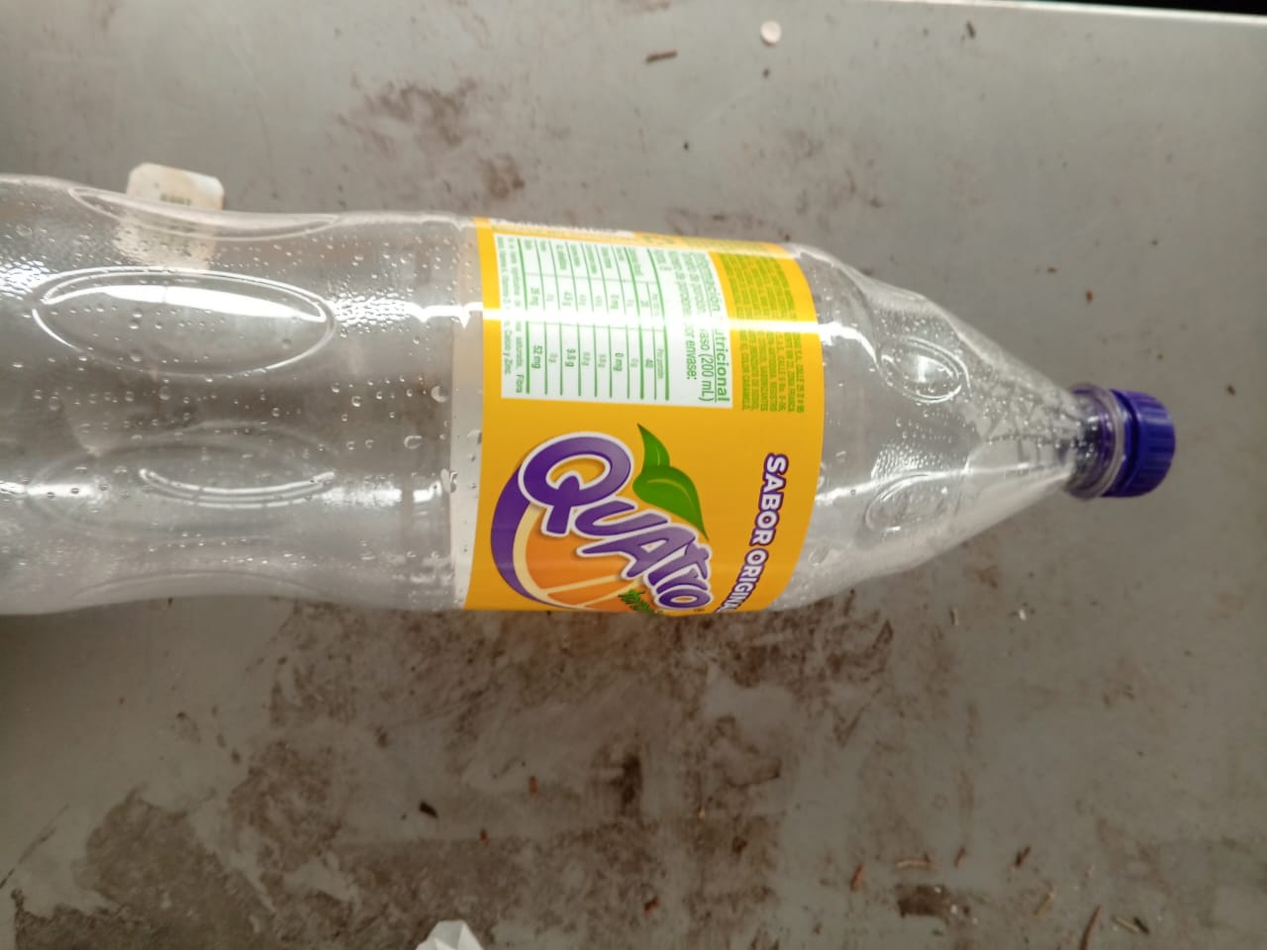Plastico: (0, 176, 1174, 613)
